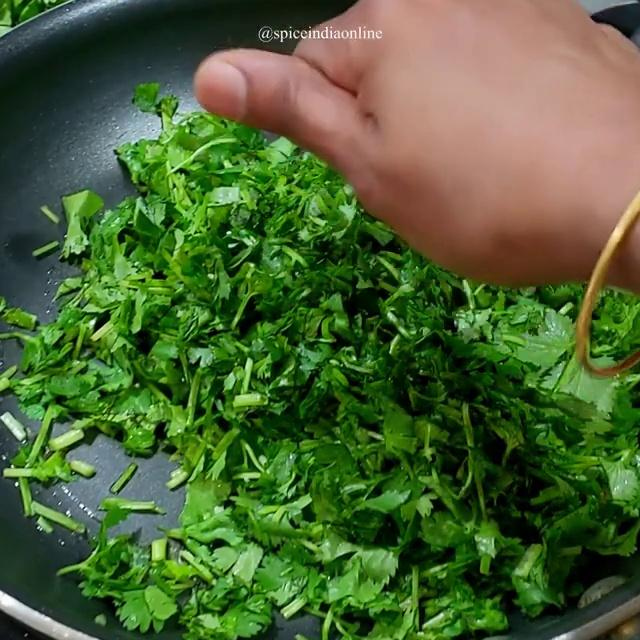cilantro: (106, 213, 486, 632)
